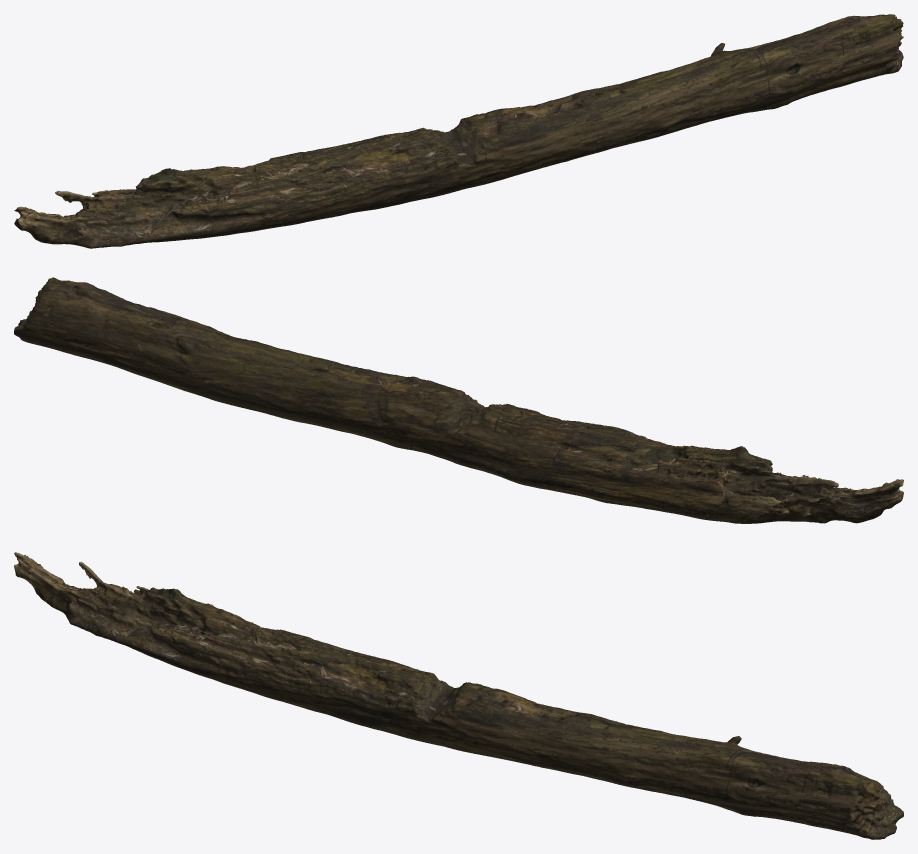
File: dead_tree_trunk.glb
3 views of the same model, one above another, from view 1: azimuth 30°, elevation 25°; view 2: azimuth 150°, elevation 25°; view 3: azimuth 330°, elevation 25° (orthographic).
Visible parts, largest first — view 1: dead_tree_trunk; view 2: dead_tree_trunk; view 3: dead_tree_trunk.
Boxes of the visible parts, bbox=[...] form: dead_tree_trunk: bbox=[14, 14, 903, 248]; dead_tree_trunk: bbox=[14, 277, 903, 523]; dead_tree_trunk: bbox=[14, 552, 903, 839].
Size of the model in its own units: 3.05 by 0.2904 by 0.2775.
1 material, 1 textured.
